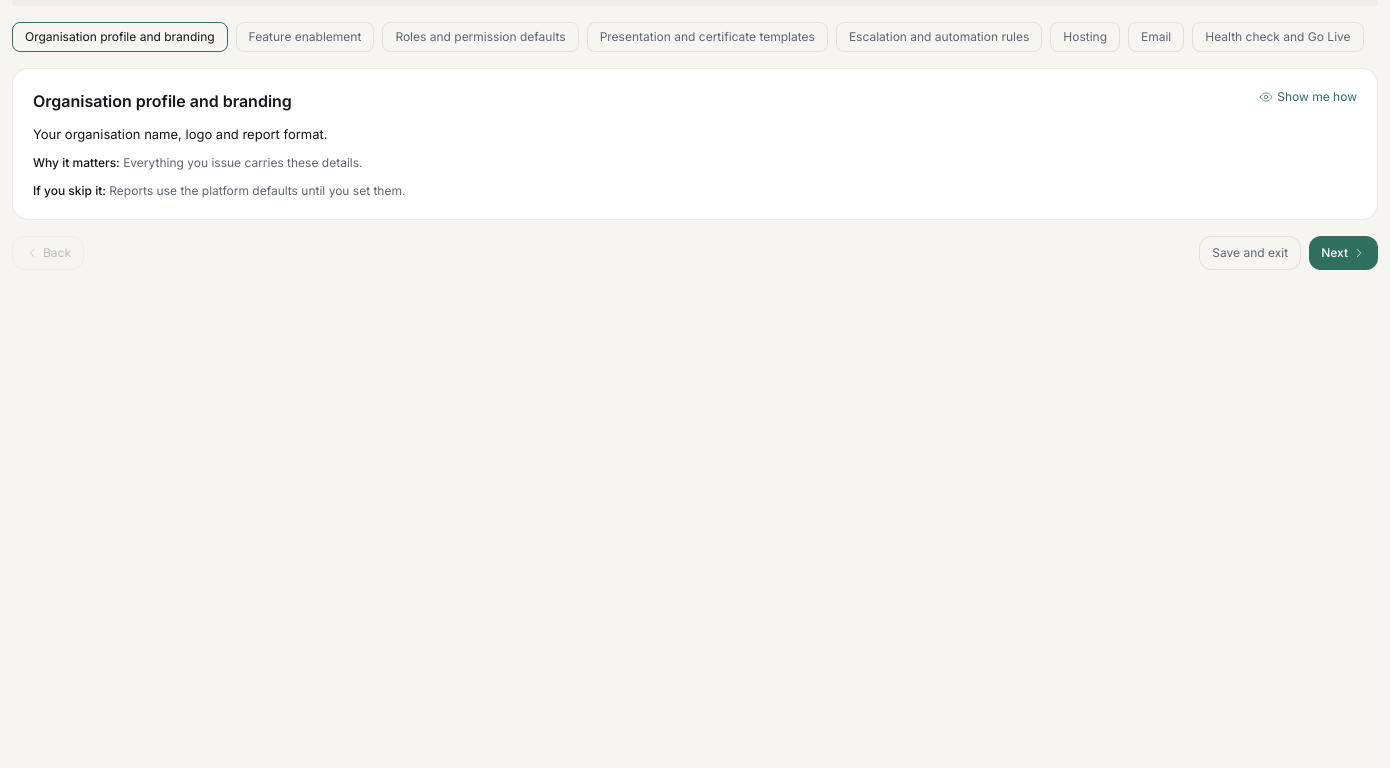
Test: guided setup wizard (F17) › opens the tutorial drawer from Show me how
What coordinates should you click on to do the following:
click the button with test id "org_admin-wizard-show-org.profile"
I would click on:
 (1308, 97)
Its box is [1259,89,1357,105].
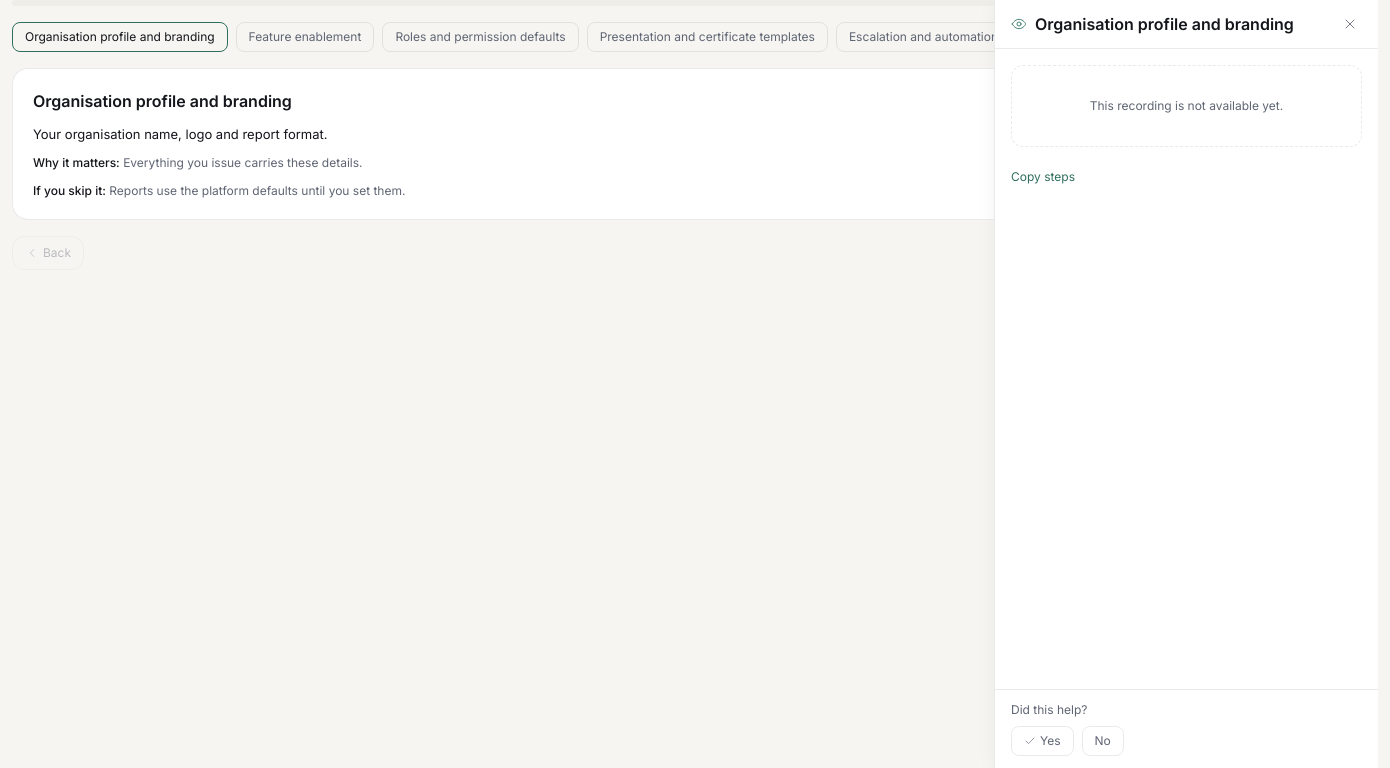
Check: the element with test id "tutorial-drawer" is shown, box [994,0,1378,767]
